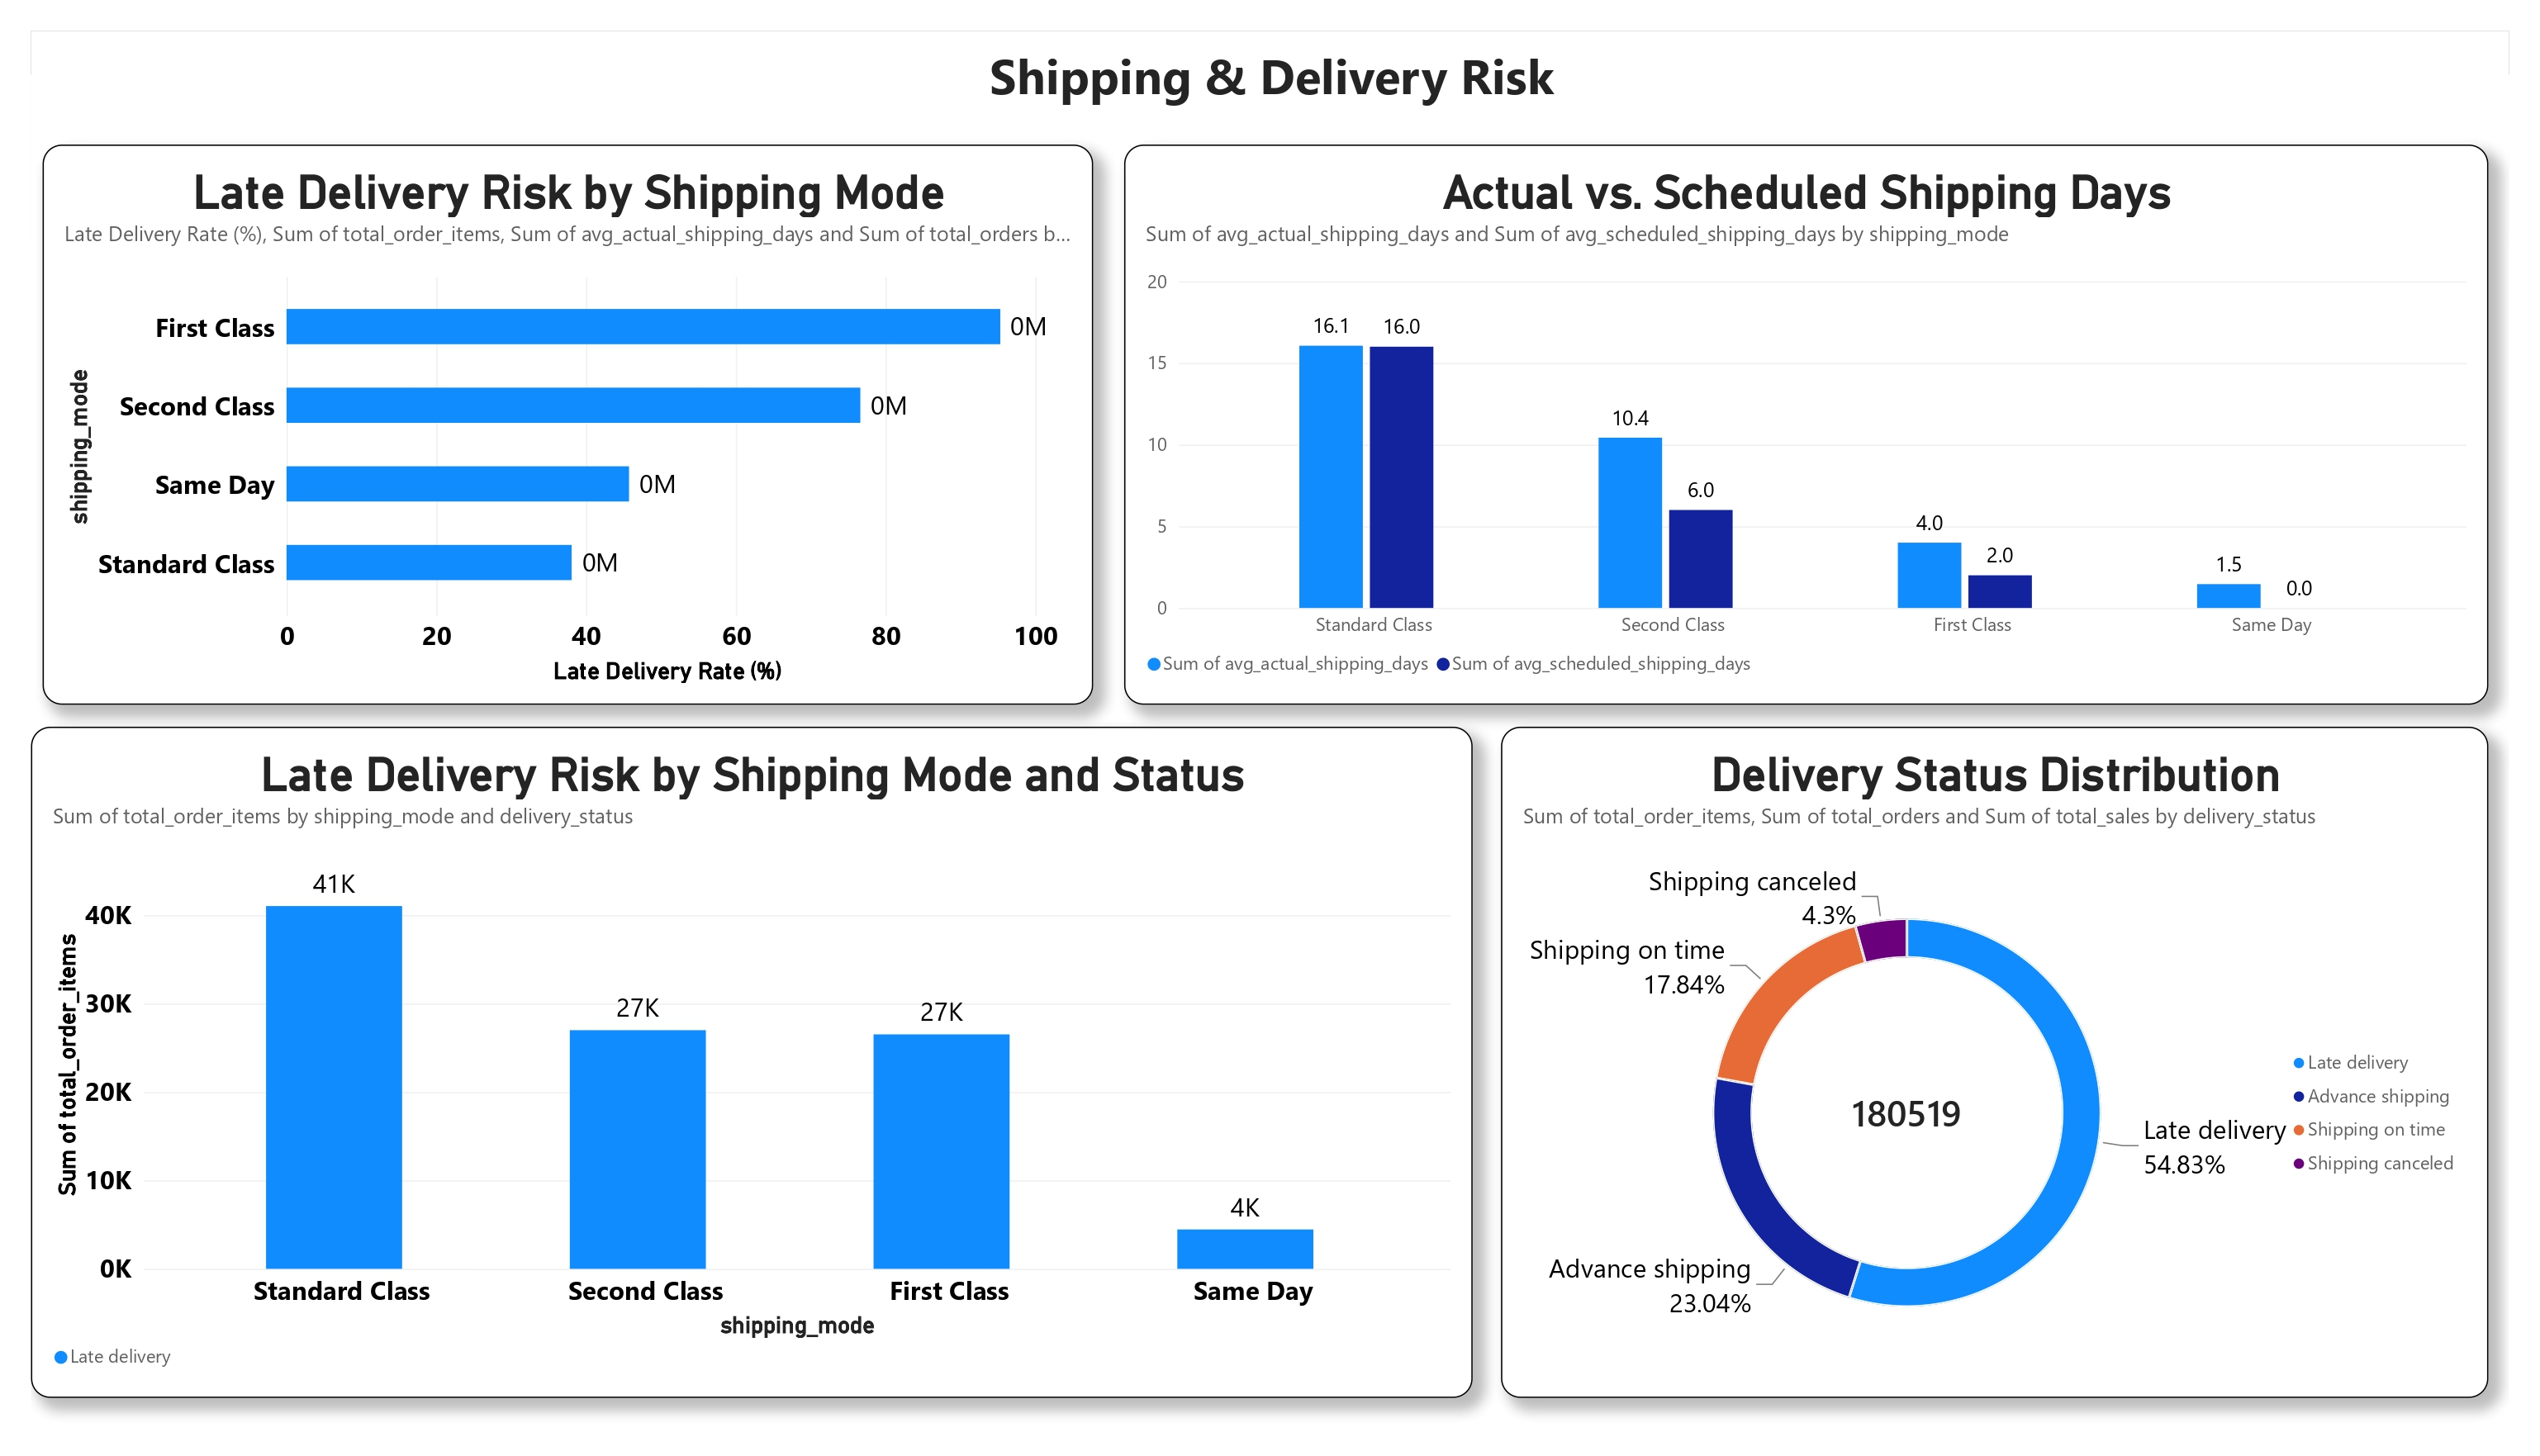

The dashboard page shown, as its layout file describes it:
{"tool":"powerbi","page":{"name":"Shipping & Delivery Risk","canvas":[1920,1080],"ordinal":4},"visuals":[{"type":"textbox","box":[685.4,8.6,552.2,79.5],"z":0},{"type":"columnChart","title":"Late Delivery Risk by Shipping Mode and Status","fields":{"Category":["mart vw_shipping_performance.shipping_mode"],"Series":["mart vw_shipping_performance.delivery_status"],"Y":["Sum(mart vw_shipping_performance.total_order_items)"]},"box":[0,539.3,1117.3,520],"z":1000},{"type":"clusteredColumnChart","title":"Actual vs. Scheduled Shipping Days","fields":{"Category":["mart vw_shipping_performance.shipping_mode"],"Y":["Sum(mart vw_shipping_performance.avg_actual_shipping_days)","Sum(mart vw_shipping_performance.avg_scheduled_shipping_days)"]},"box":[846.5,88.1,1057.1,434],"z":2000},{"type":"clusteredBarChart","title":"Late Delivery Risk by Shipping Mode","fields":{"Category":["mart vw_shipping_performance.shipping_mode"],"Y":["mart vw_shipping_performance.Late Delivery Rate (%)"]},"box":[8.6,88.1,814.3,434],"z":3000},{"type":"donutChart","title":"Delivery Status Distribution","fields":{"Category":["mart vw_shipping_performance.delivery_status"],"Y":["Sum(mart vw_shipping_performance.total_order_items)"]},"box":[1138.8,539.3,764.9,520],"z":4000}]}

Visuals, with their boxes on the page's 1920x1080 design canvas (x1, y1, x2, y2). These are canvas units, not pixel positions in the 2540x1456 screenshot, which may show the page scaled, cropped or inside an application window:
textbox: (685, 9, 1238, 88)
"Late Delivery Risk by Shipping Mode and Status" columnChart: (0, 539, 1117, 1059)
"Actual vs. Scheduled Shipping Days" clusteredColumnChart: (846, 88, 1904, 522)
"Late Delivery Risk by Shipping Mode" clusteredBarChart: (9, 88, 823, 522)
"Delivery Status Distribution" donutChart: (1139, 539, 1904, 1059)
